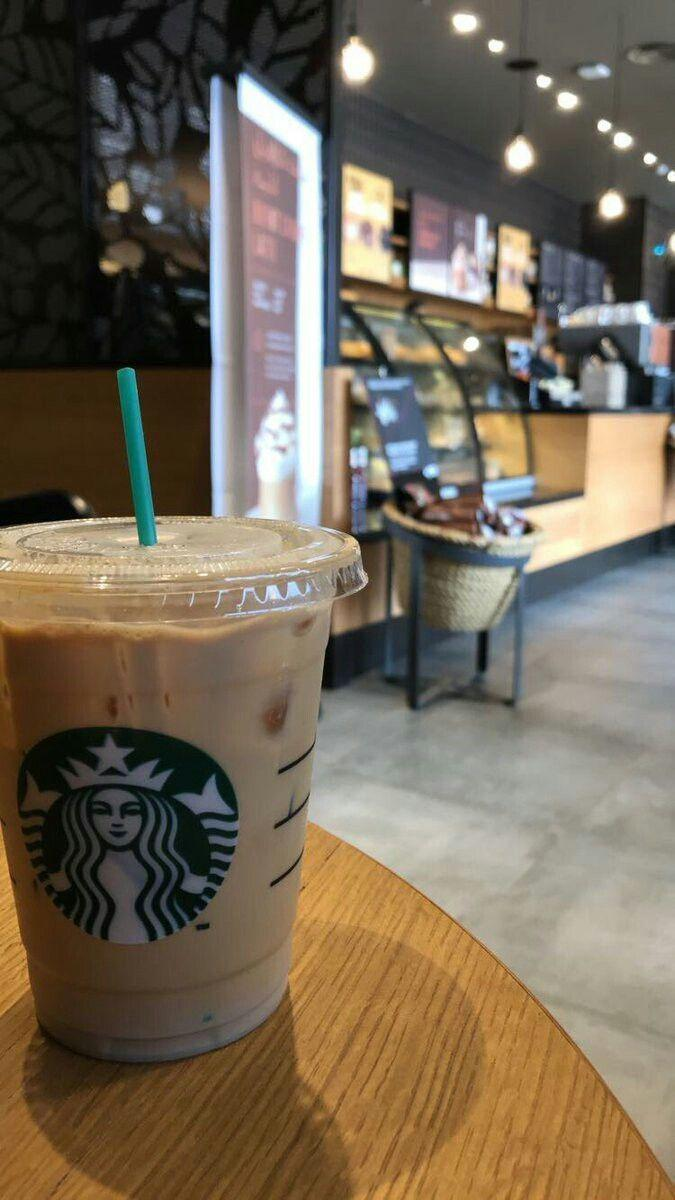cup-disposable: (1, 510, 367, 1066)
